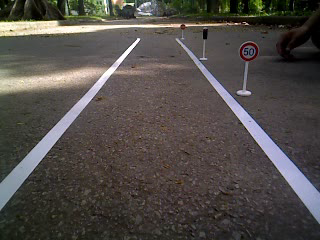Red: (198, 26, 212, 42)
Stop: (174, 22, 190, 32)
limit 50: (236, 36, 264, 66)
